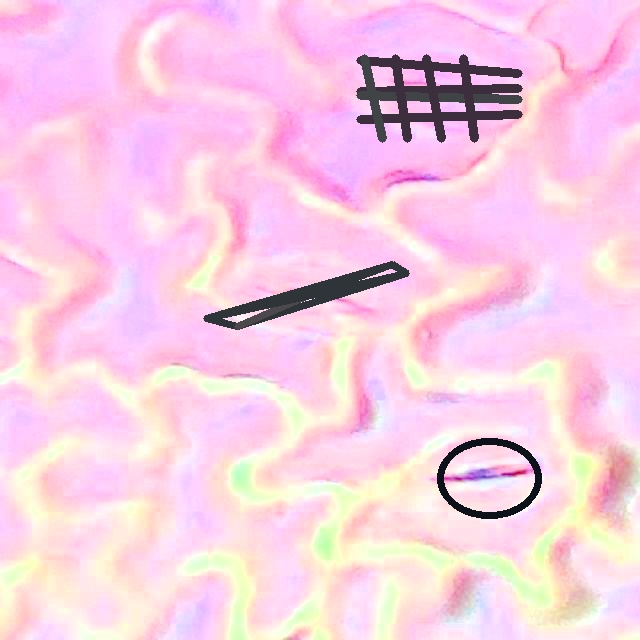close: (357, 55, 522, 142)
open: (204, 262, 408, 329), (437, 438, 541, 518)
